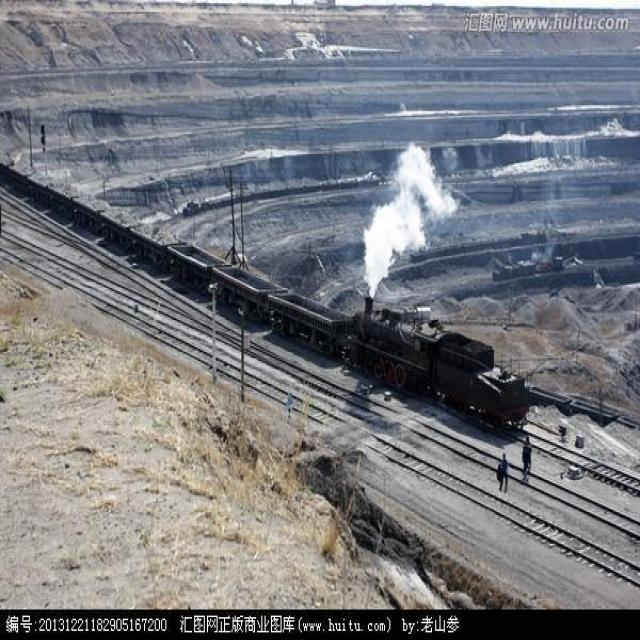Smoke: (362, 142, 461, 302)
